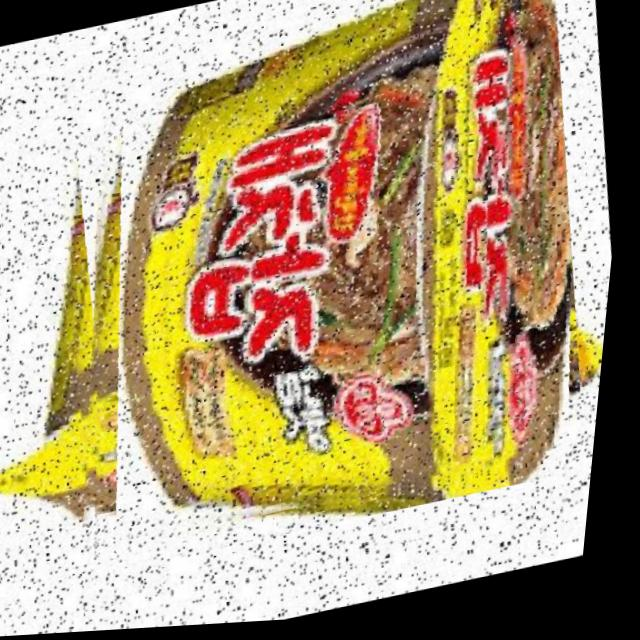Miscellaneous: (15, 0, 630, 566)
